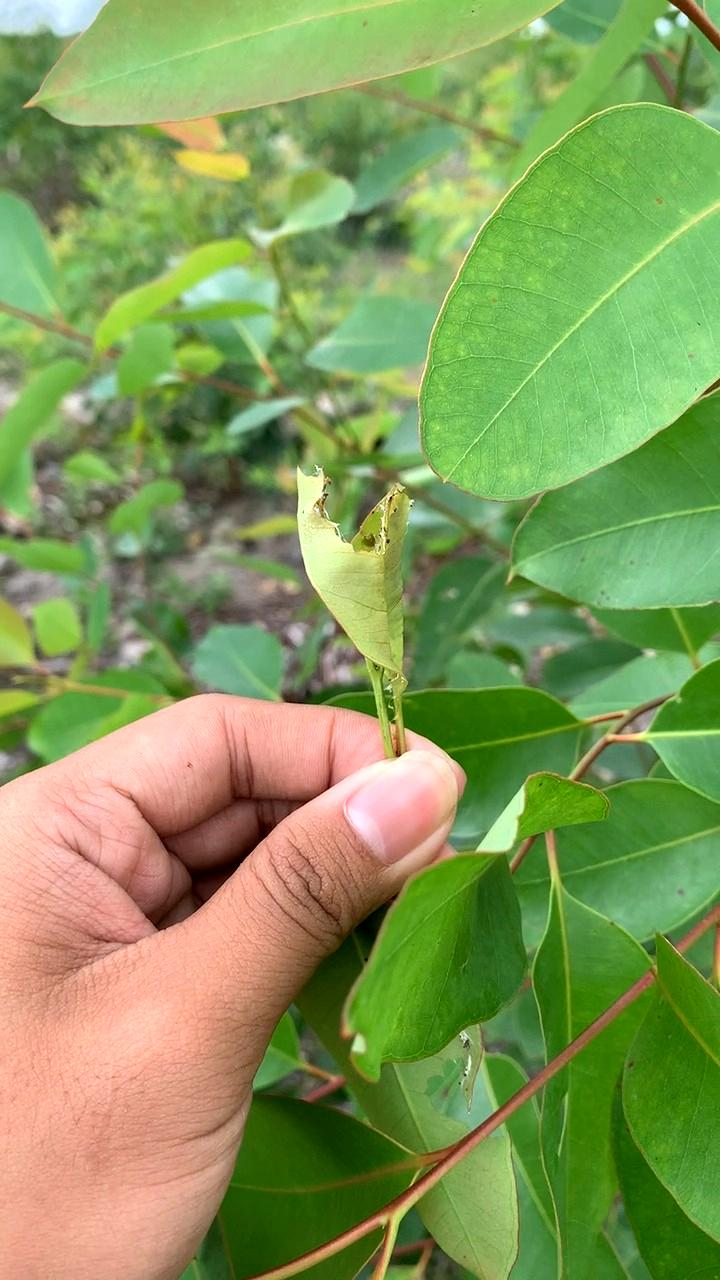Leaf Roller - Leaf: (286, 451, 423, 729)
